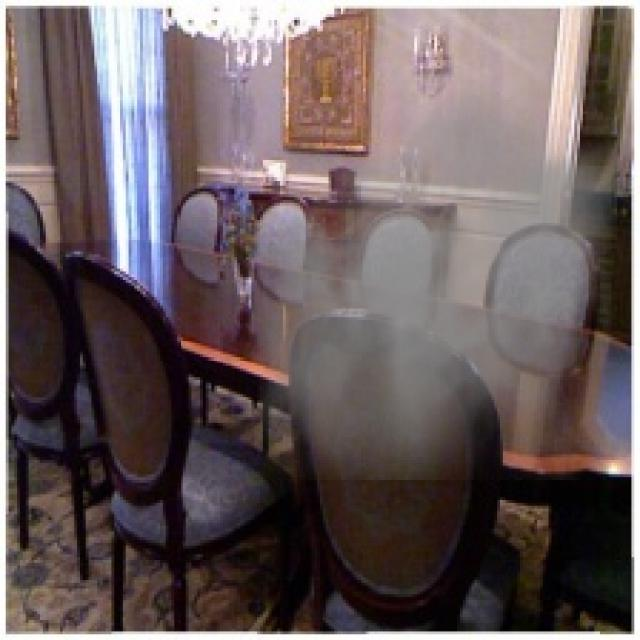smoke: (257, 74, 617, 480)
